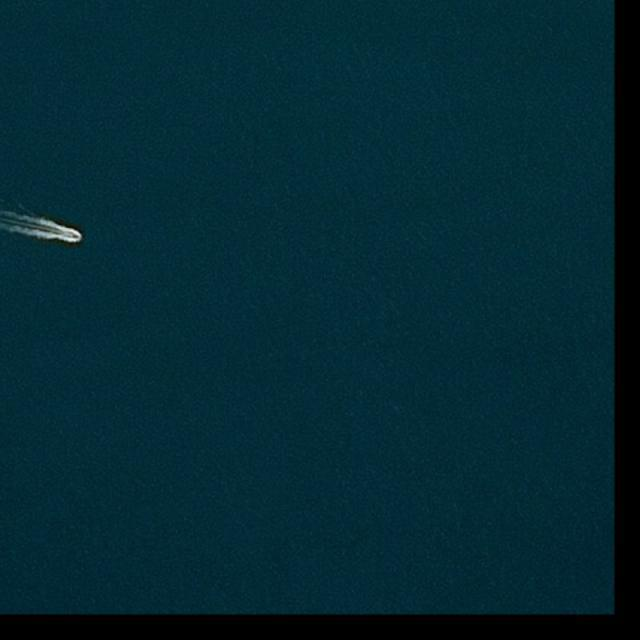ship: (67, 232, 81, 241)
